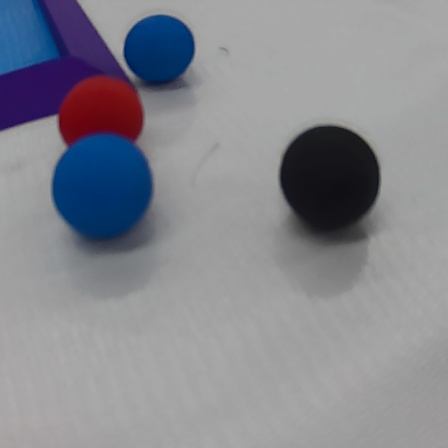black: (273, 122, 387, 231)
blue: (51, 131, 156, 245), (122, 13, 195, 86)
blue_aim: (0, 0, 136, 139)
red: (53, 74, 151, 155)
